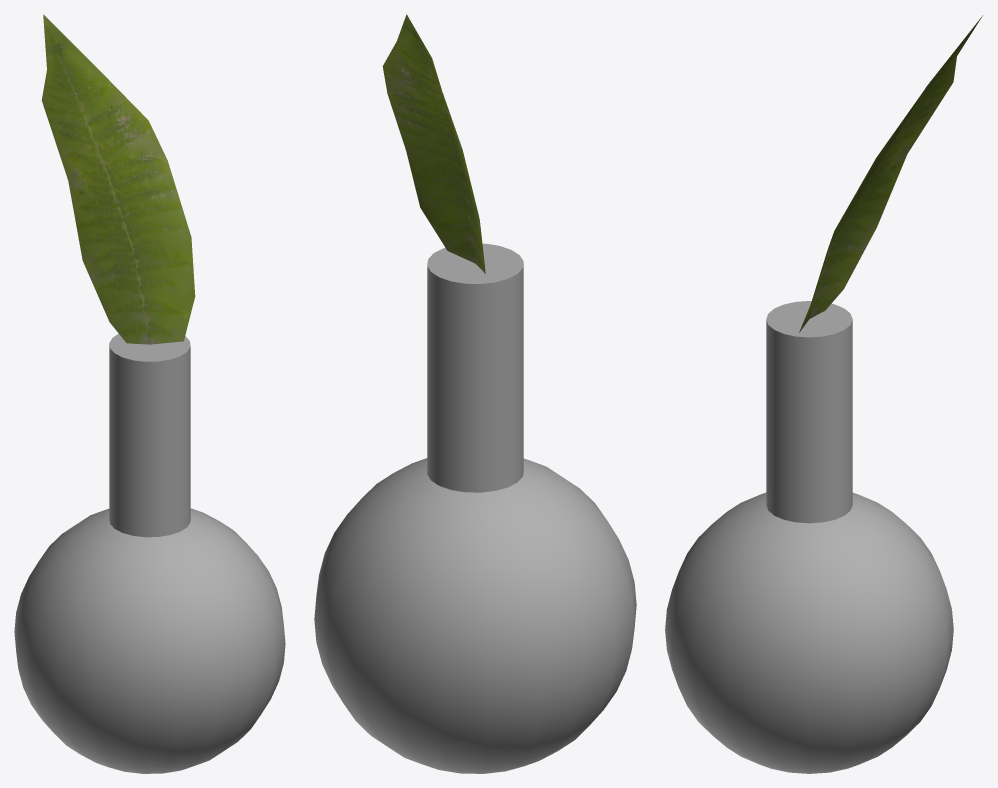
The model's file is Planta_Prov.fbx.
The picture shows the model from 3 angles, left to right: view 1: azimuth 30°, elevation 25°; view 2: azimuth 150°, elevation 25°; view 3: azimuth 270°, elevation 25°; orthographic projection. The views are drawn at different scales.
Visible parts, largest first — view 1: Planta_Prov; view 2: Planta_Prov; view 3: Planta_Prov.
Boxes of the visible parts, x1=… form: Planta_Prov: x1=14, y1=14, x2=285, y2=773; Planta_Prov: x1=314, y1=14, x2=636, y2=773; Planta_Prov: x1=665, y1=15, x2=982, y2=773.
Size of the model in its own units: 140 by 393 by 155.
